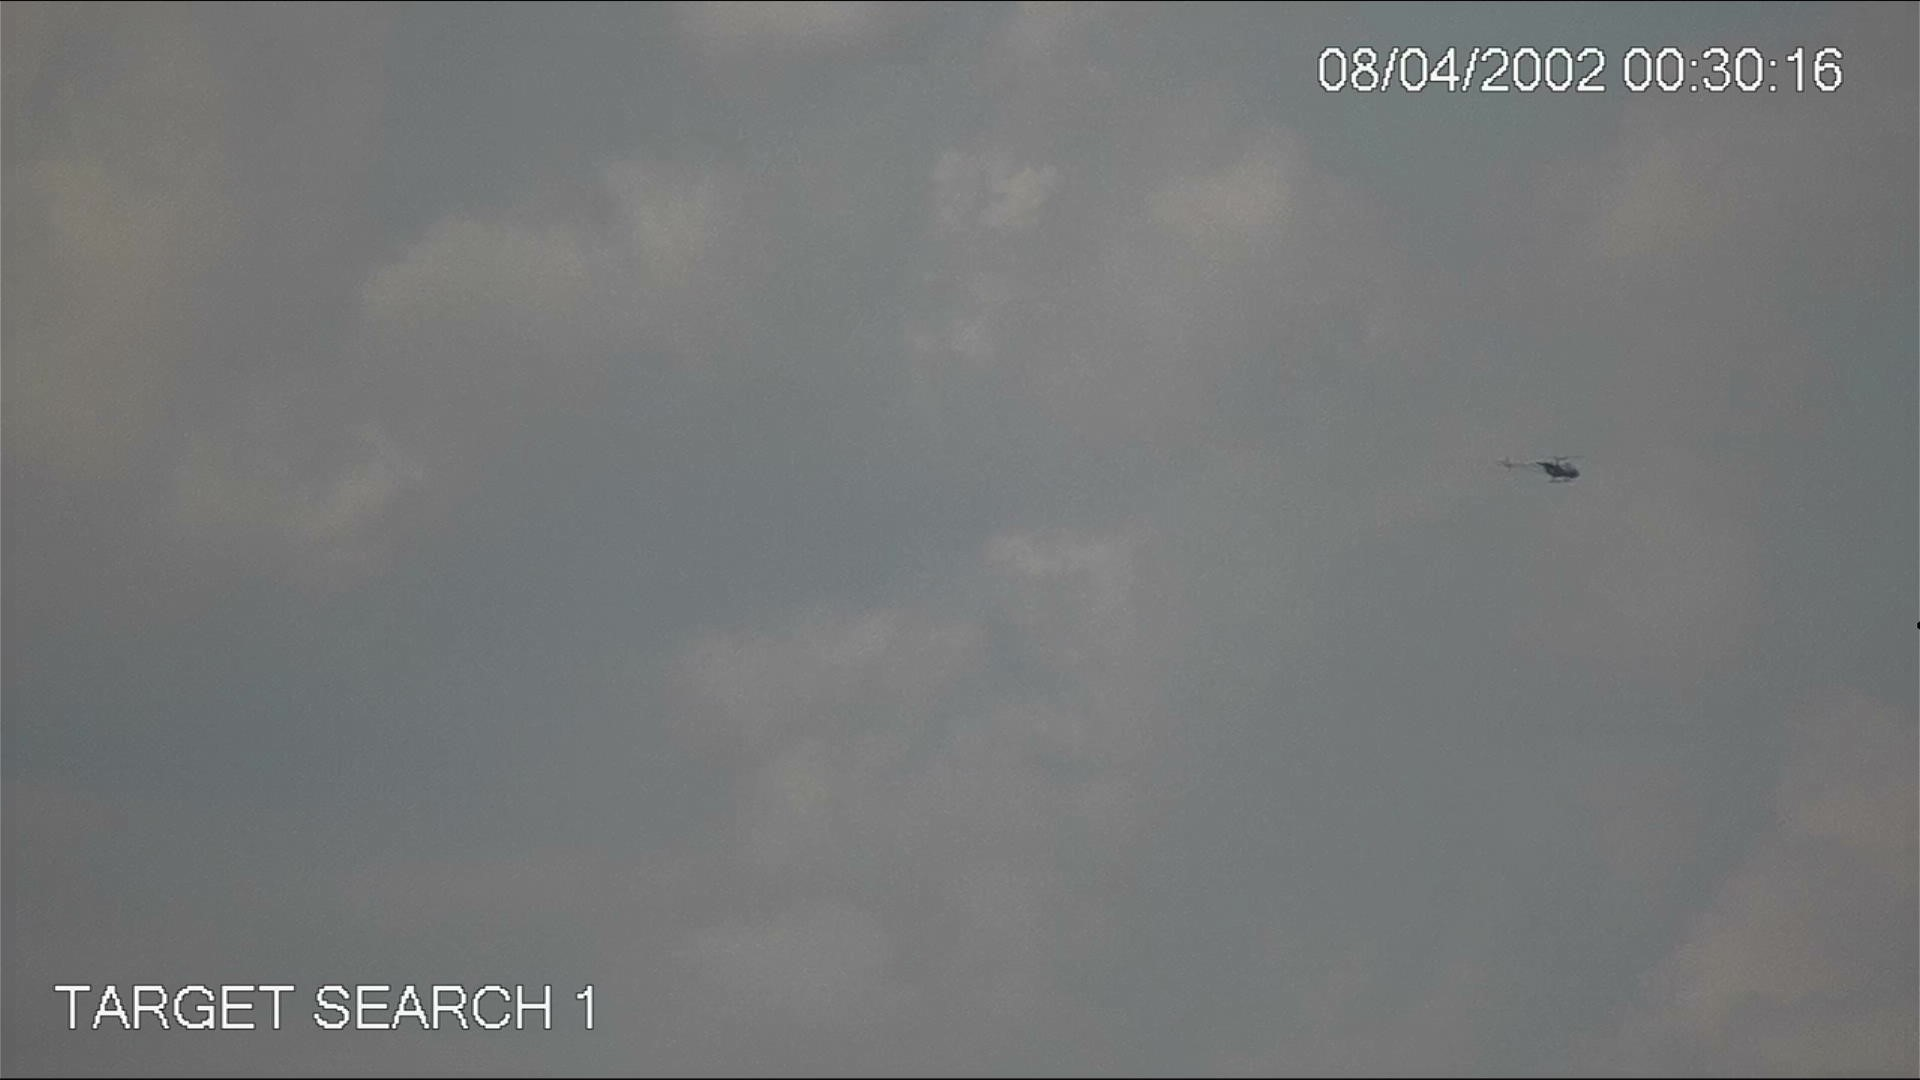SU_30: (1501, 456, 1584, 487)
